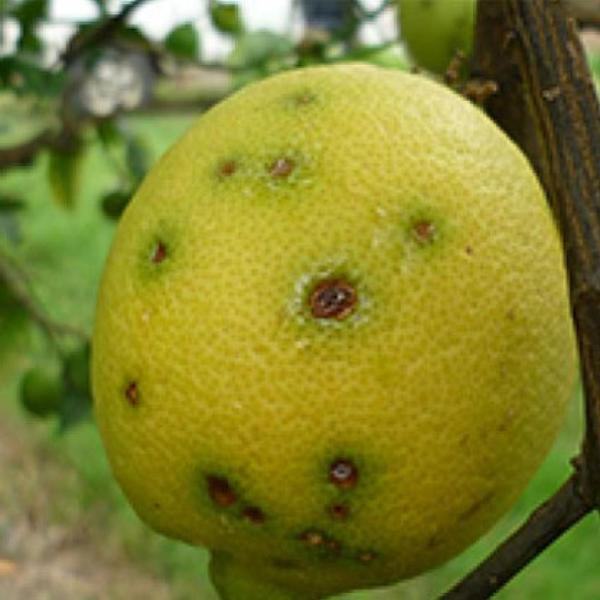Trips: (86, 57, 582, 578)
